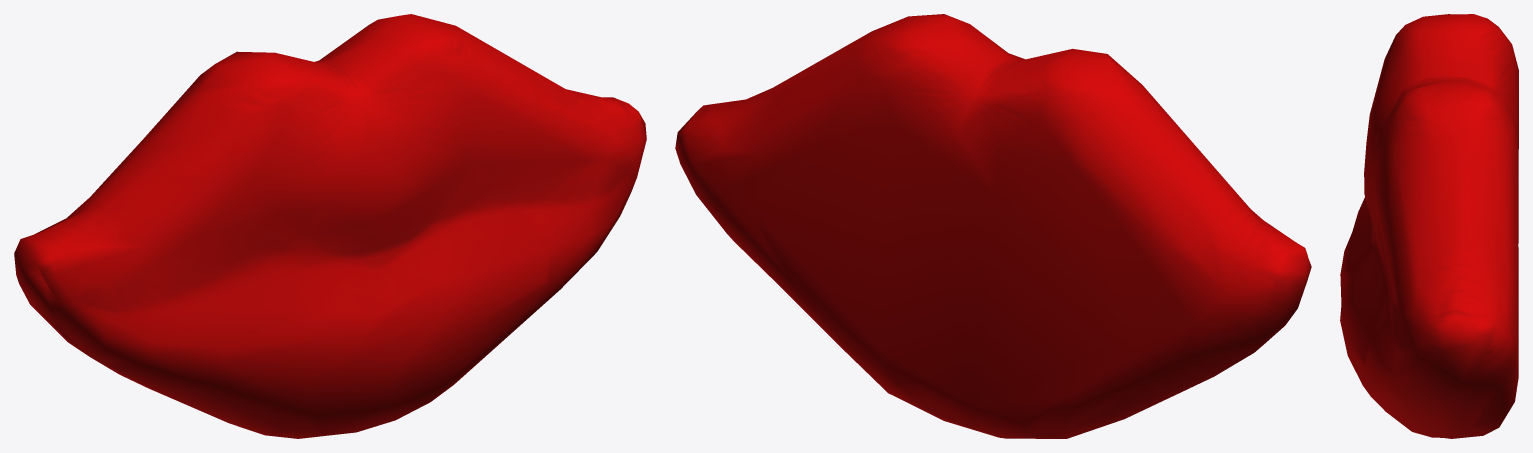
Rendered from PartyBalloons02_4.FBX.
3 views of the same model, side by side, from view 1: azimuth 30°, elevation 25°; view 2: azimuth 150°, elevation 25°; view 3: azimuth 270°, elevation 25° (orthographic). The views are drawn at different scales.
Visible parts, largest first — view 1: PartyBalloons02_4; view 2: PartyBalloons02_4; view 3: PartyBalloons02_4.
Boxes of the visible parts, box(x1,y1,x2,y2) form: PartyBalloons02_4: box(14, 14, 646, 438); PartyBalloons02_4: box(675, 14, 1311, 438); PartyBalloons02_4: box(1340, 14, 1518, 438).
Size of what is drawn, in the model's own units: 0.661 by 0.3924 by 0.1755.
